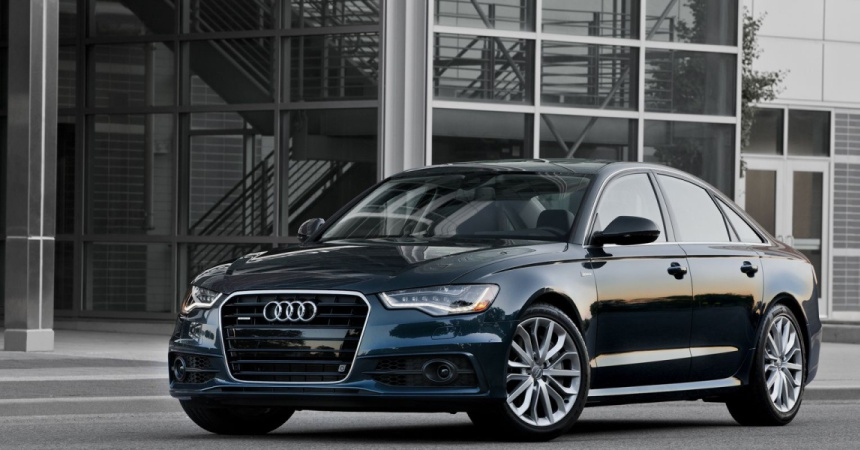audi: (257, 298, 323, 326)
